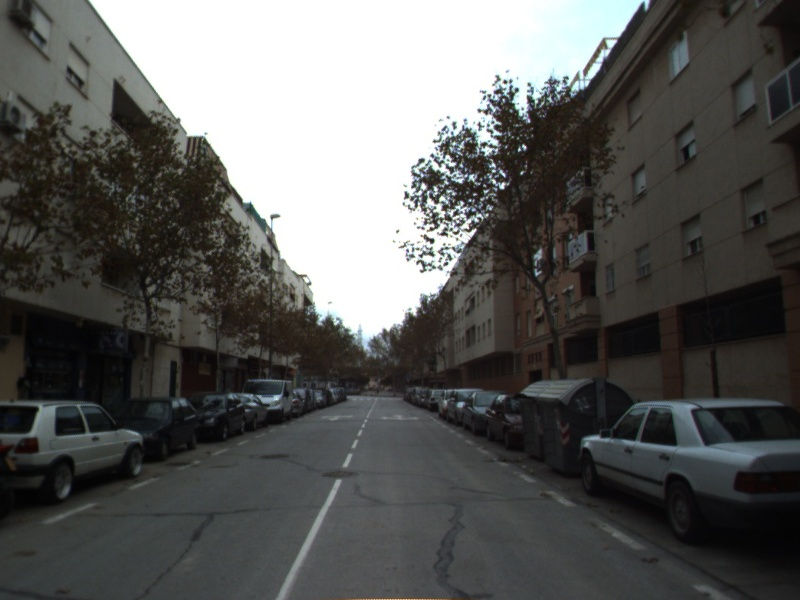STRAIGHT_LEFT_RIGHT: (378, 412, 422, 423)
